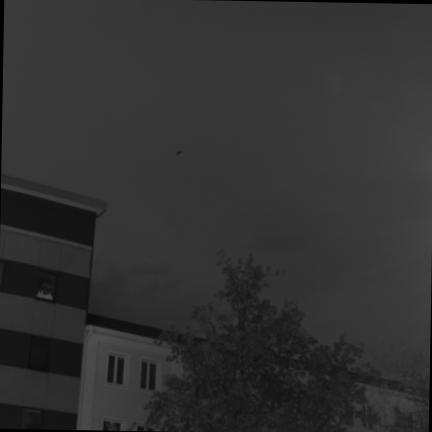Shahed: (176, 151, 182, 155)
